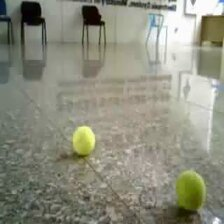tennis: (173, 171, 204, 211), (72, 125, 94, 156)
